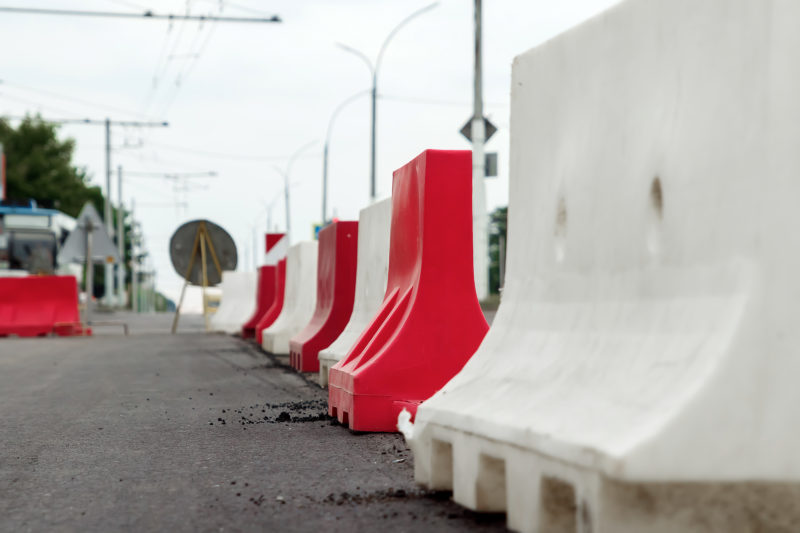Barrier: (176, 45, 800, 533)
